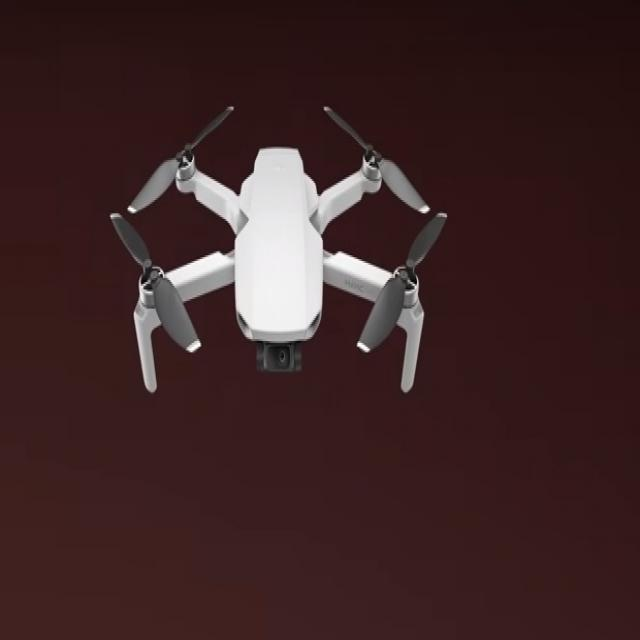drone: (98, 82, 482, 439)
